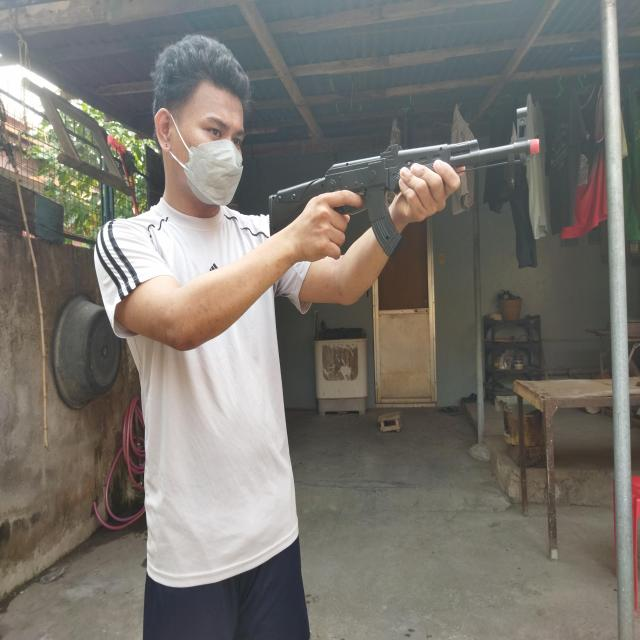rifle: (269, 131, 539, 258)
